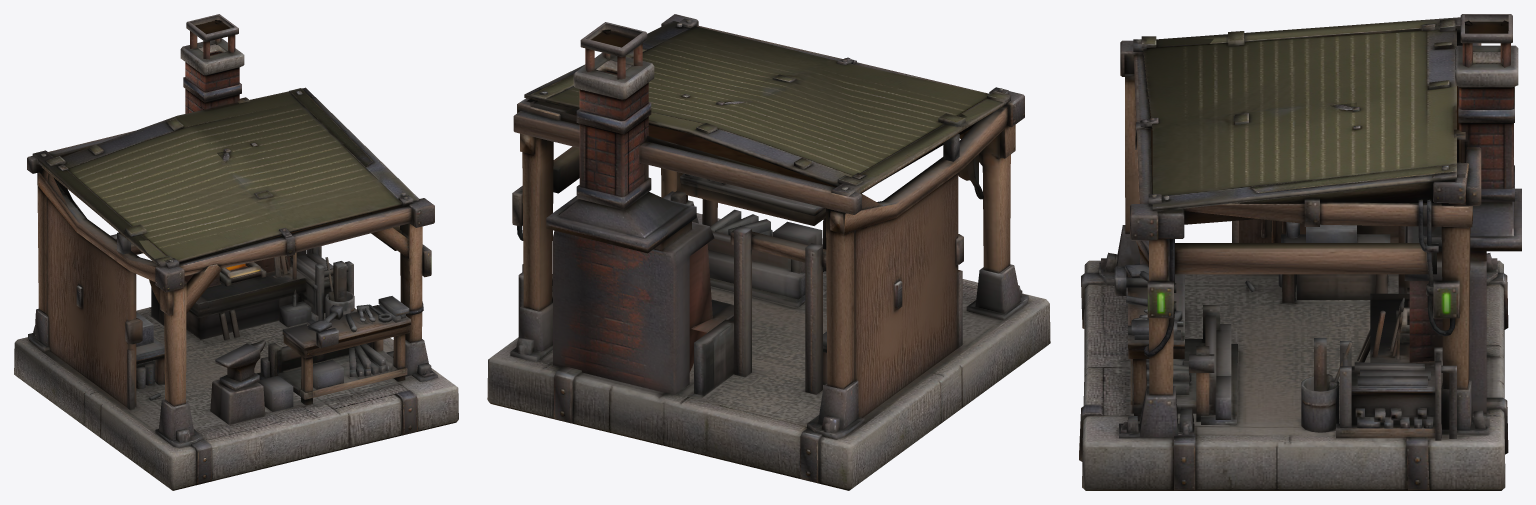
Rendered from forge_l01.glb.
The picture shows the model from 3 angles, left to right: view 1: azimuth 30°, elevation 25°; view 2: azimuth 150°, elevation 25°; view 3: azimuth 270°, elevation 25°; orthographic projection. The views are drawn at different scales.
Parts seen in each view (by area): view 1: tripo_node_8f55270f-3761-4f14-a0a5-6b5064121f2f; view 2: tripo_node_8f55270f-3761-4f14-a0a5-6b5064121f2f; view 3: tripo_node_8f55270f-3761-4f14-a0a5-6b5064121f2f.
Boxes of the visible parts, x1,y1,x2,y2 form: tripo_node_8f55270f-3761-4f14-a0a5-6b5064121f2f: (14,14,458,490); tripo_node_8f55270f-3761-4f14-a0a5-6b5064121f2f: (487,14,1050,490); tripo_node_8f55270f-3761-4f14-a0a5-6b5064121f2f: (1079,14,1521,490).
Bounding box in the file's own units: 0.981 × 0.9995 × 0.9839.
Materials: 1 (1 with a texture image).
